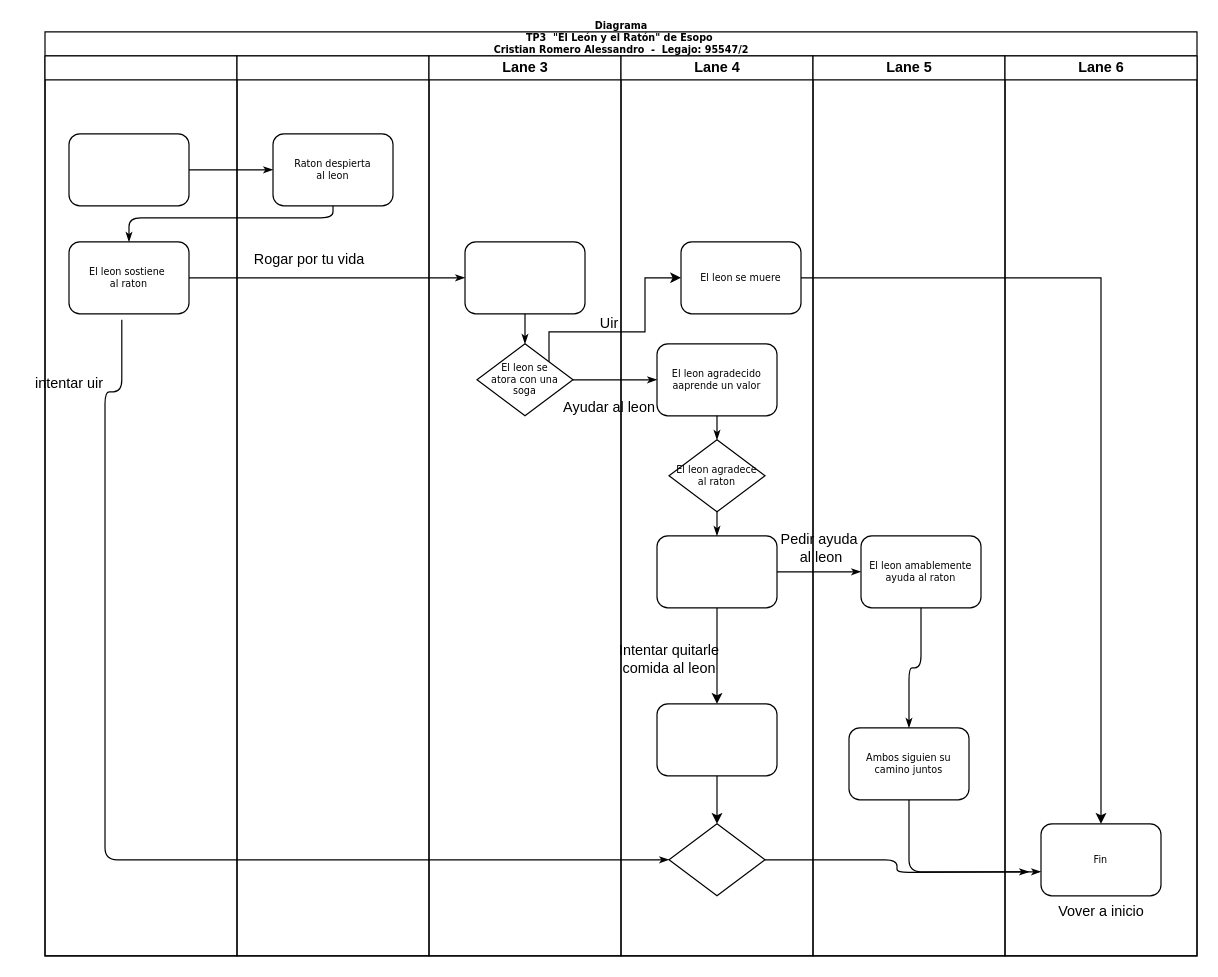
Image size: 1218x977. Some labels were removed from this diagram. The shapes that lost their labels are listed below. From the top down, each one's box as (x1, y1, x2, y2) in pixels, then its label:
(68, 133, 189, 206): Panralla de inicio
(464, 241, 585, 314): El leon decide perdonarlo
(44, 55, 237, 956): Lane 1
(236, 55, 429, 956): Lane 2
(656, 535, 777, 608): EL ratonse da cuenta de que no tiene comida
(656, 703, 777, 776): El leon come al raton
(668, 823, 765, 896): El raton se muere
